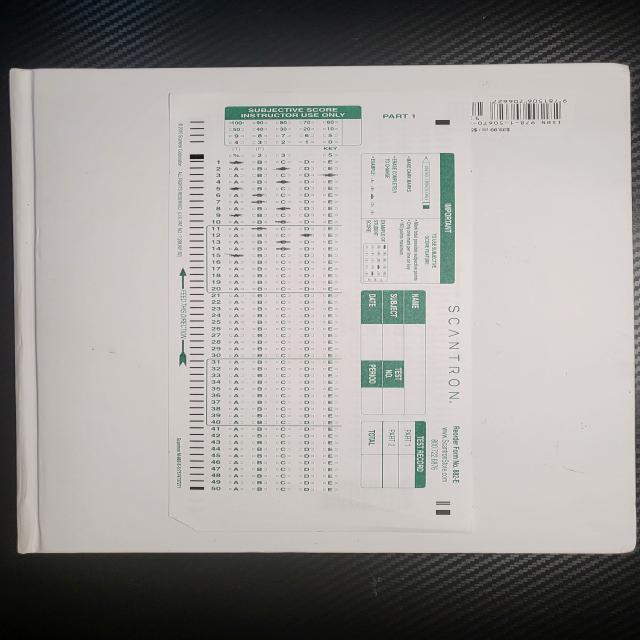scantron: (170, 92, 474, 534)
